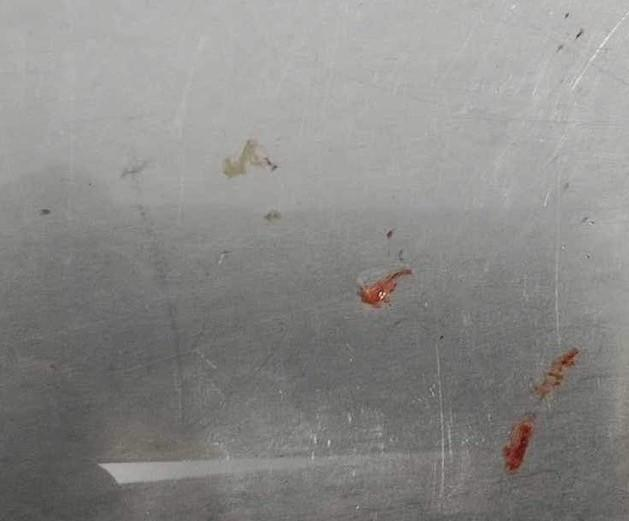Infectious: (356, 266, 414, 306)
Pathological: (0, 0, 628, 520)
